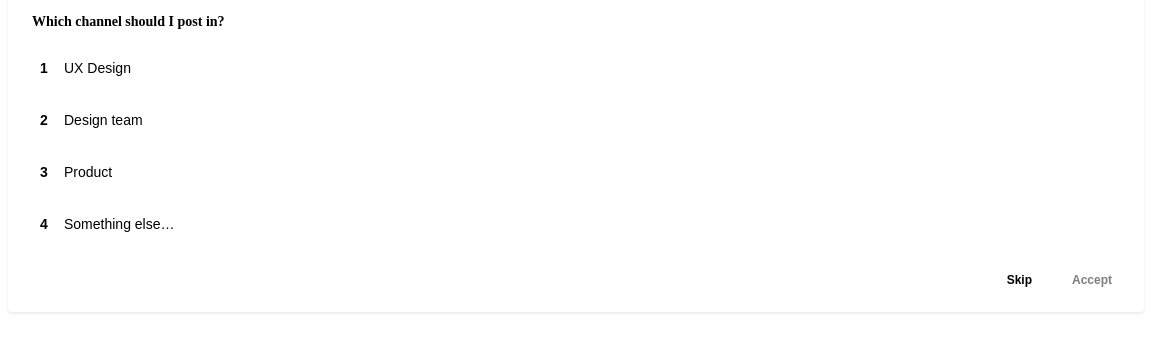
Test: QuestionCard › selecting the free-form row reveals the text input
Click the text "Something else…". click: click(119, 224)
box: left=64, top=214, right=174, bottom=234
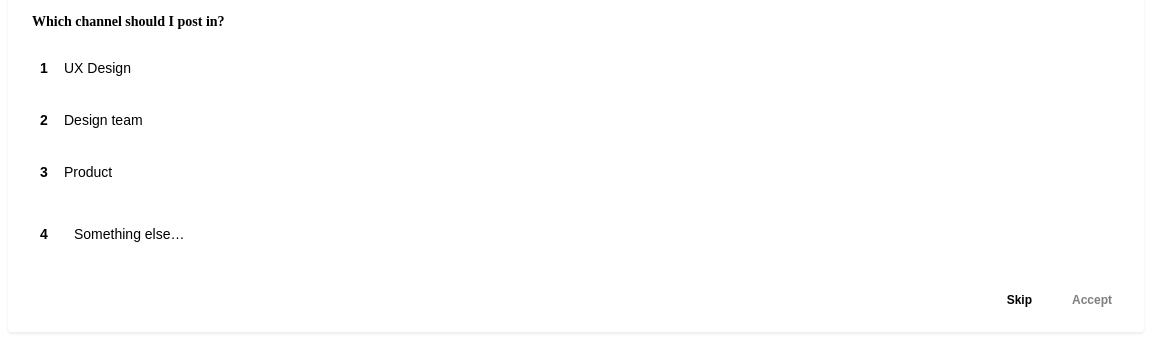
Expected: the field with placeholder "Something else…" is shown, left=64, top=218, right=1116, bottom=250
